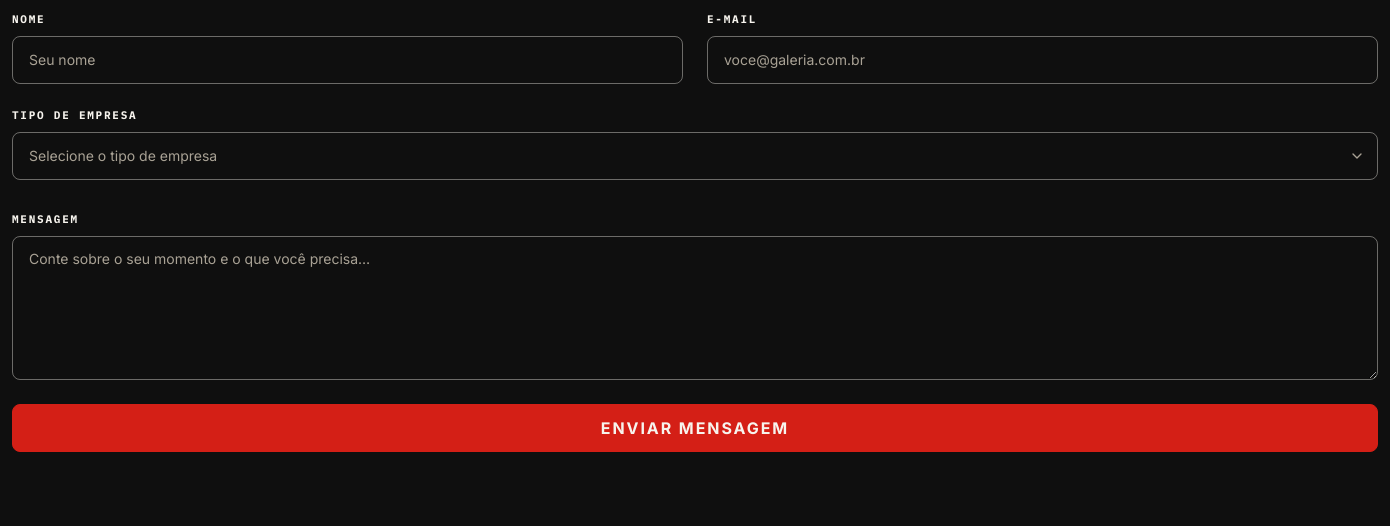
ContactForm (Fase 4.2/4.7 / RF-08) › envia com sucesso — fetch com payload, toast e reset do formulário
The width and height of the screenshot is (1390, 526).
Type "Ana Souza" into the field labelled "Nome".
click(348, 60); type("Ana Souza")  # box [12, 36, 683, 84]
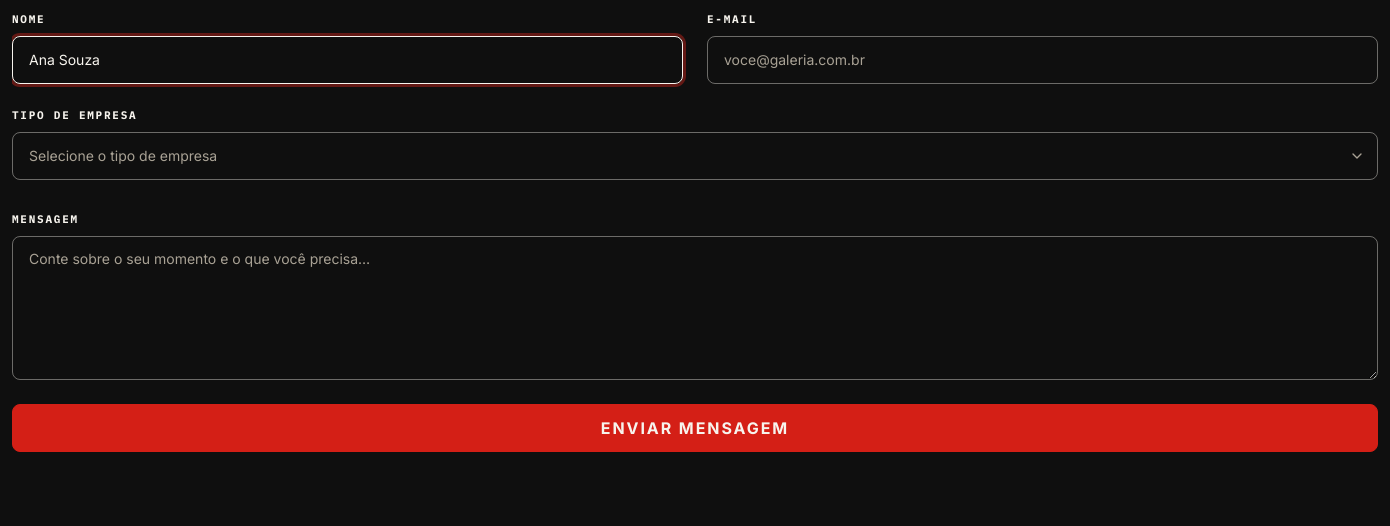
Type "ana@galeria.com.br" into the field labelled "E-mail".
click(1042, 60); type("ana@galeria.com.br")  # box [707, 36, 1378, 84]
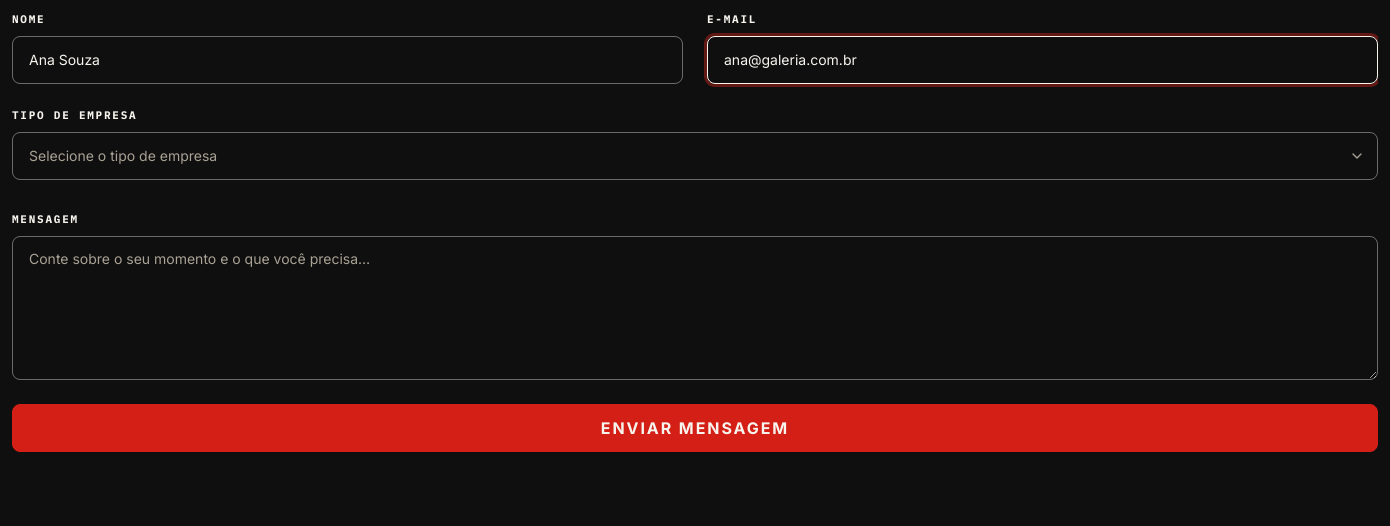
Click the dropdown.
click(123, 155)  # box [12, 132, 1378, 180]
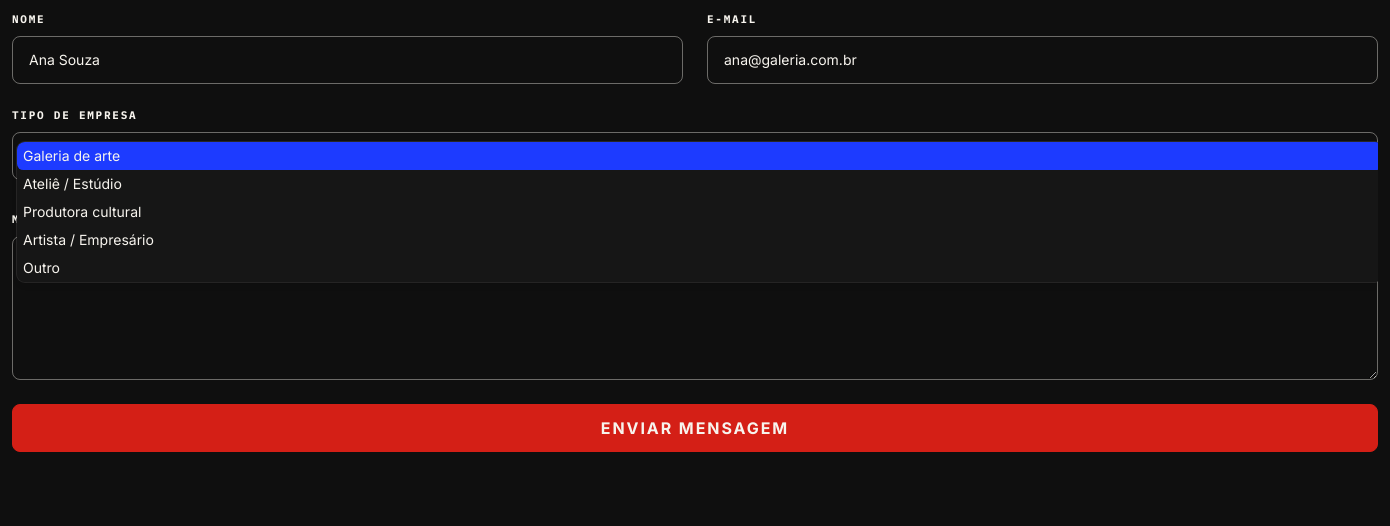
Click the option "Galeria de arte".
click(72, 155)  # box [17, 142, 1378, 170]
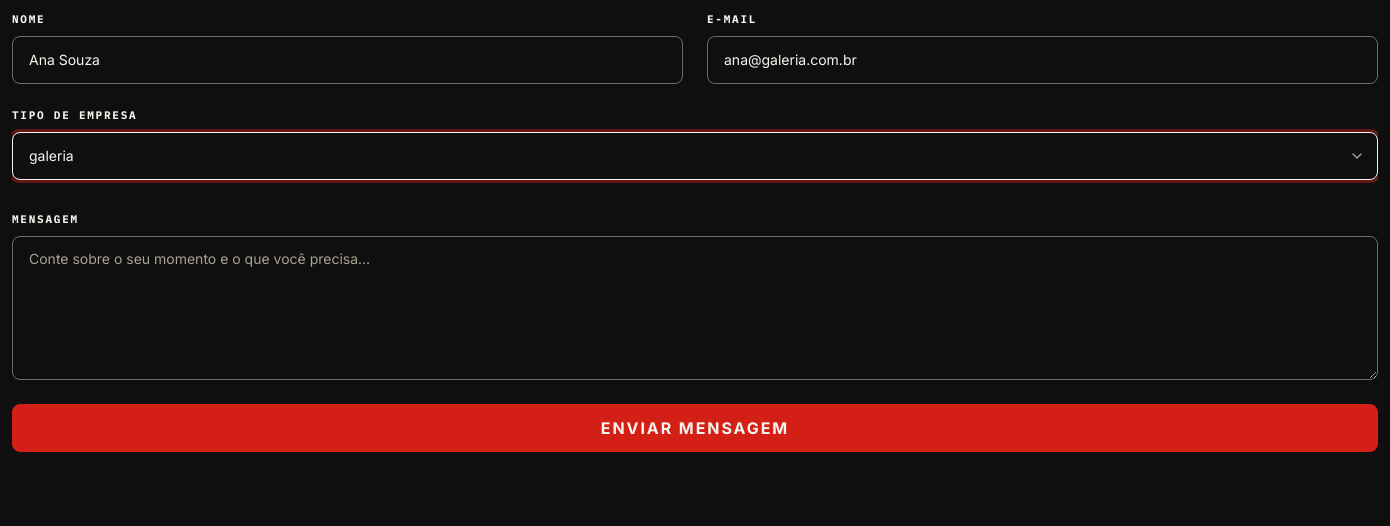
Type "Quero uma proposta para minha galeria de arte." into the text box labelled "Mensagem".
click(695, 308); type("Quero uma proposta para minha galeria de arte.")  # box [12, 236, 1378, 380]
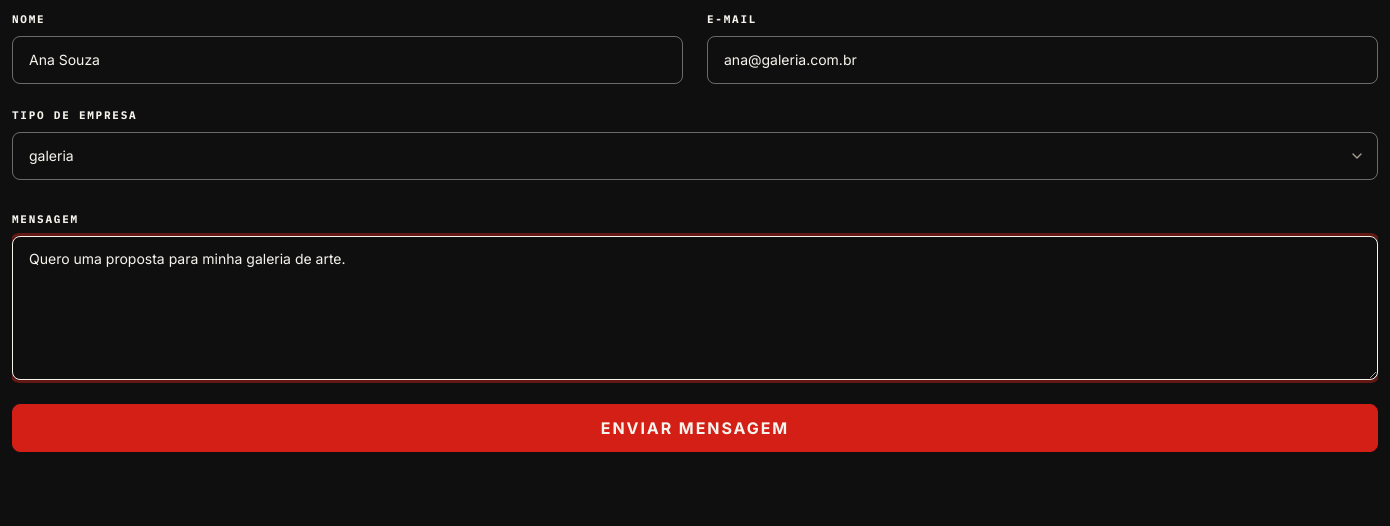
Click the button "ENVIAR MENSAGEM".
click(695, 428)  # box [12, 404, 1378, 452]
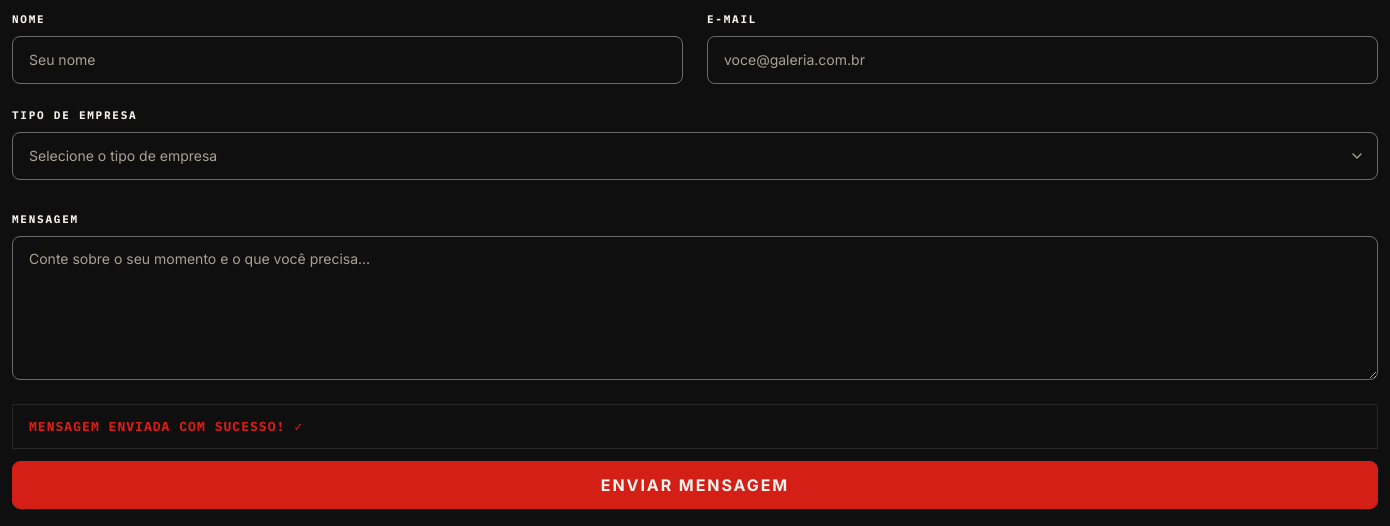
Check: the text "Mensagem enviada com sucesso! ✓" is shown, box [12, 404, 1378, 449]
Check: the field labelled "Nome" is empty, box [12, 36, 683, 84]
